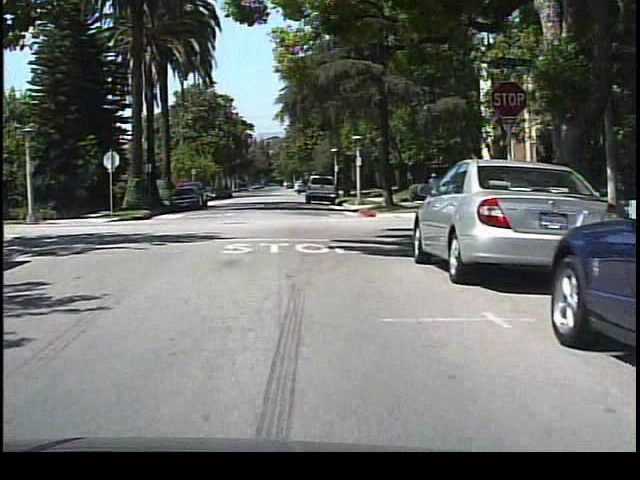person: (421, 165, 444, 213)
